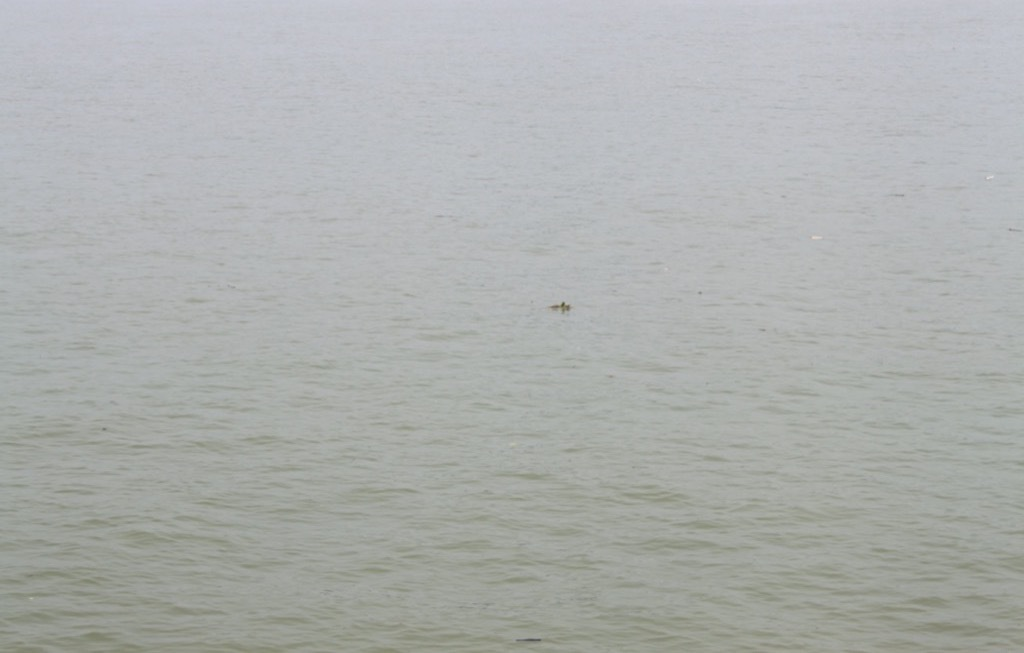organic: (537, 294, 587, 322), (511, 631, 562, 649), (1001, 219, 1024, 238), (94, 421, 114, 438)
plastic: (806, 230, 829, 243), (982, 170, 1001, 182)
